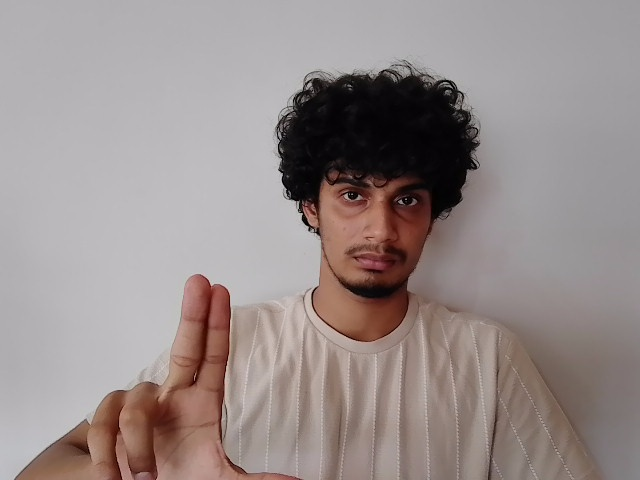no: (93, 278, 309, 480)
